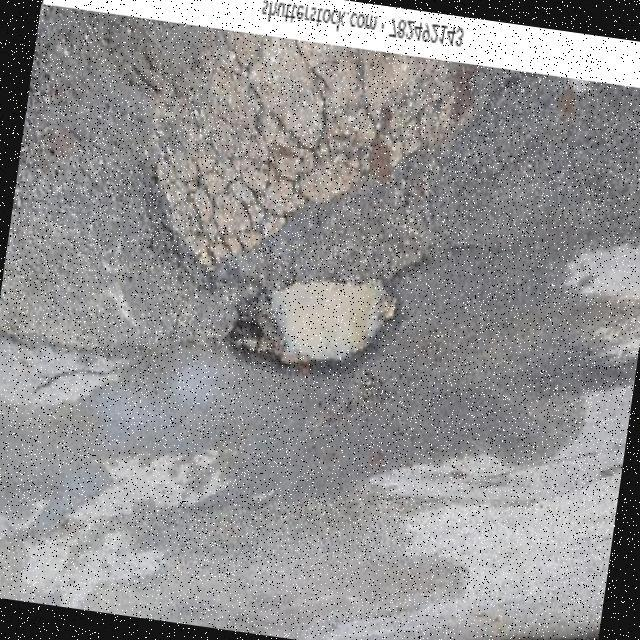Pothole: (230, 278, 399, 369)
